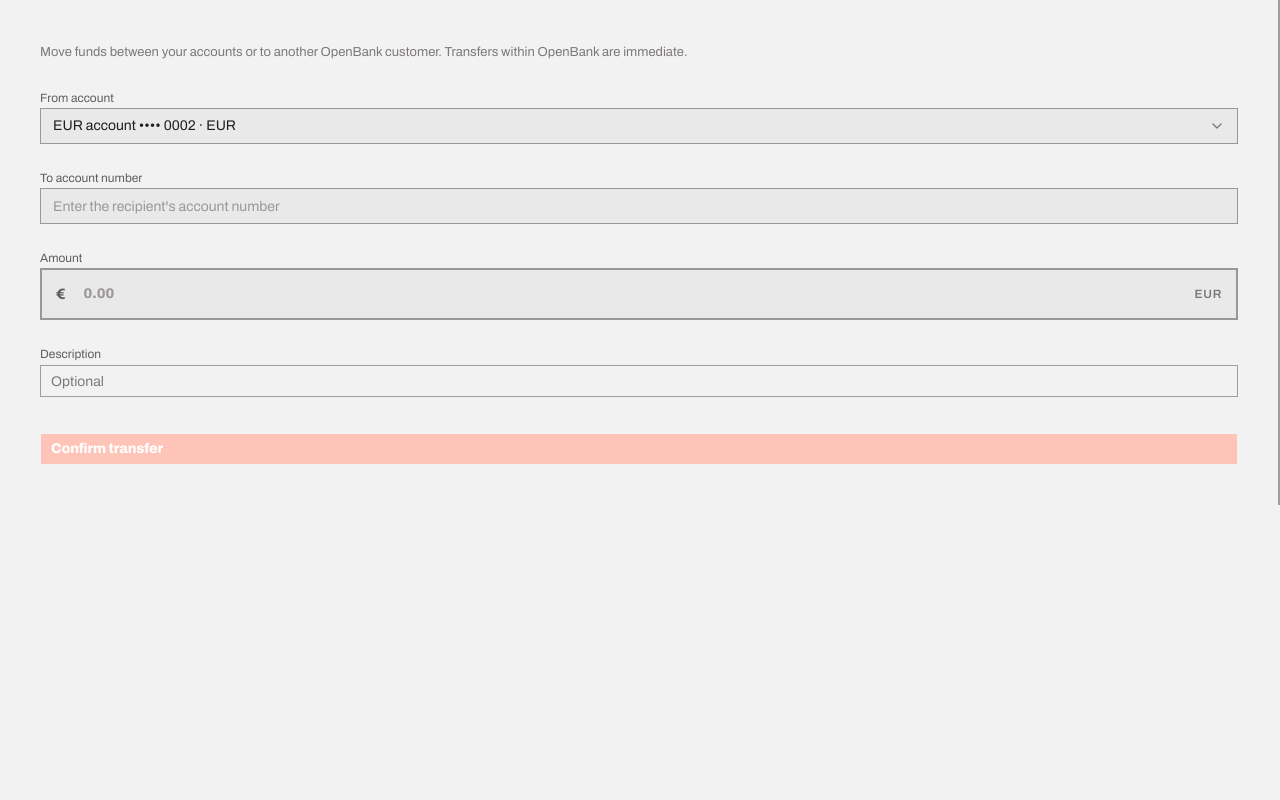
Test: TransferPanel integration › shows exchange warning only when cross-currency
# 200000000002 is EUR, recipient 7723490011 is USD → warning
In the field with placeholder "Enter the recipient's account number": (639, 206) [40, 188, 1238, 224], type "7723490011"
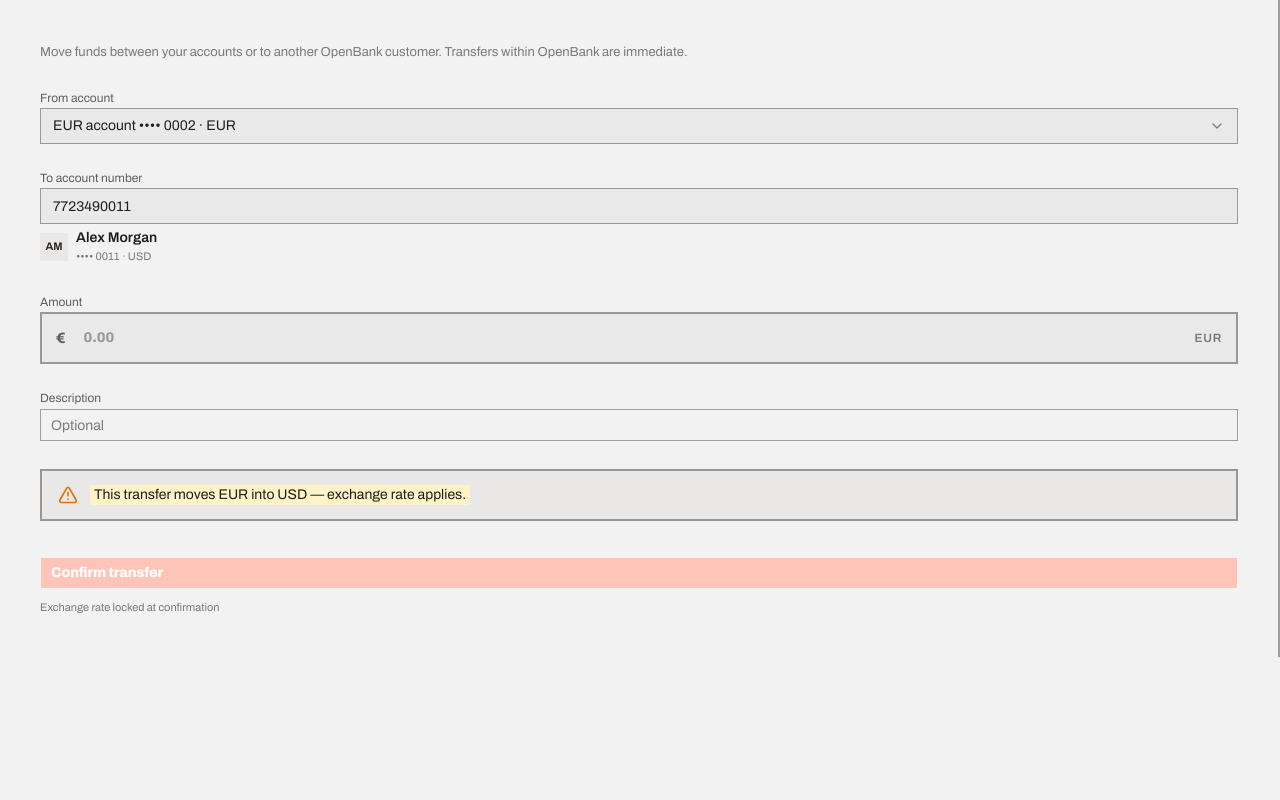
Expected: the text "This transfer moves EUR into USD — exchange rate applies." is shown, [90, 485, 470, 505]
Expected: the text "Exchange rate locked at confirmation" is shown, [40, 601, 220, 613]
